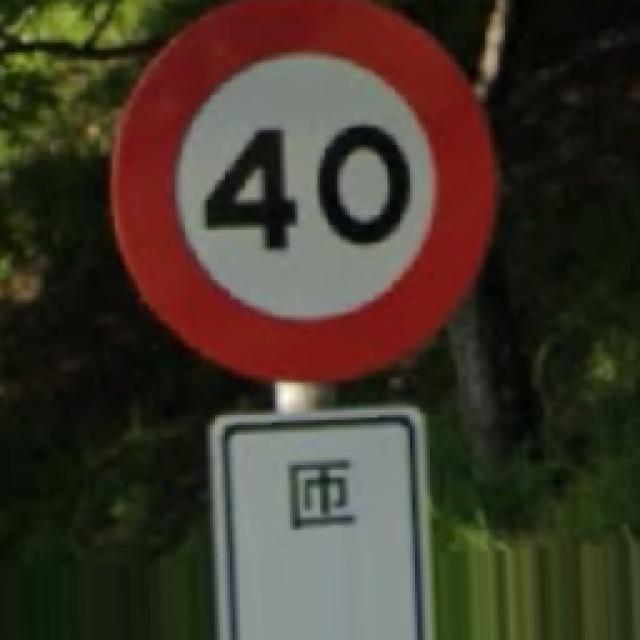Speed Limit -40-: (112, 0, 495, 378)
